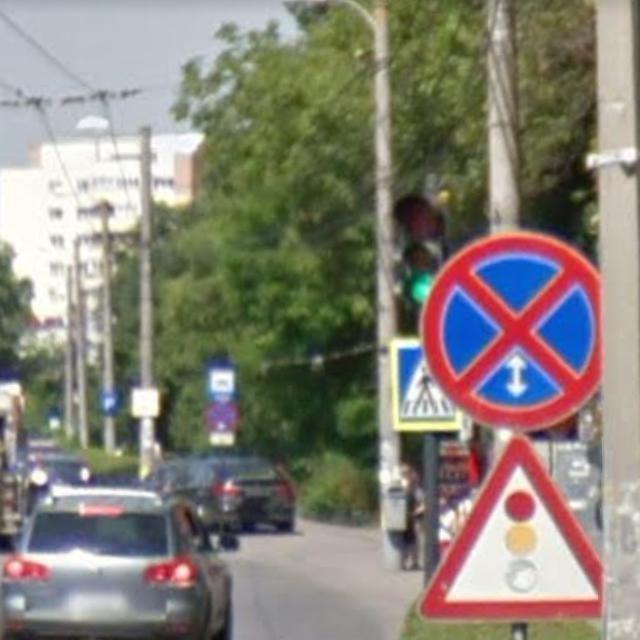forb_waiting: (420, 230, 602, 430)
info_crosswalk: (387, 340, 466, 429)
